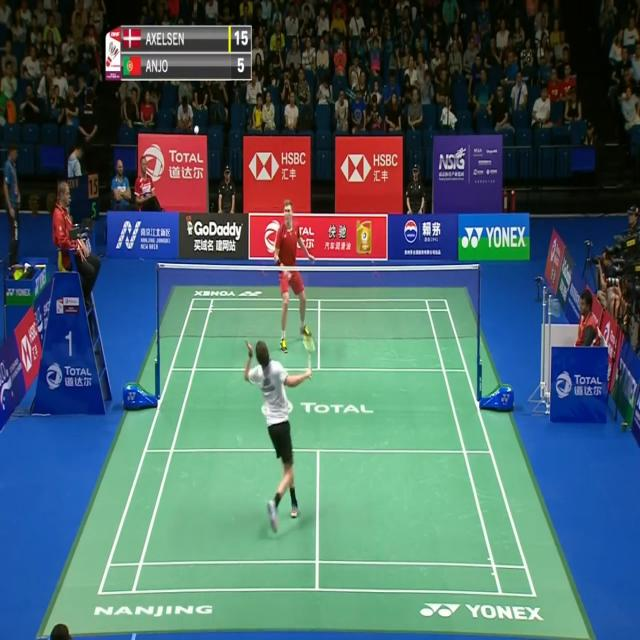Player1: (240, 335, 314, 531)
Player2: (271, 196, 319, 350)
